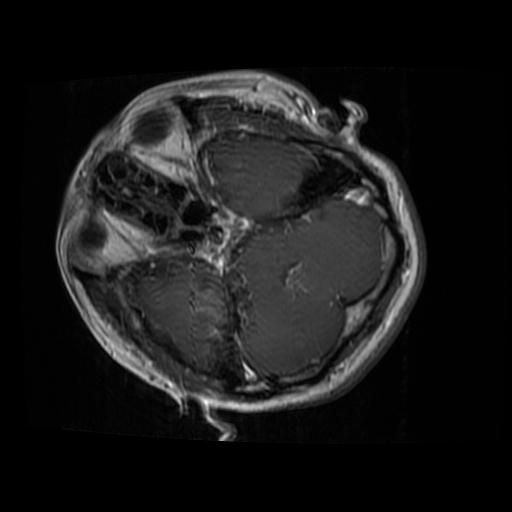glioma: (203, 223, 223, 245)
